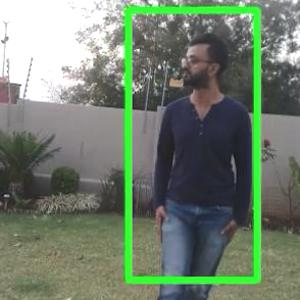follow: (157, 23, 249, 276)
